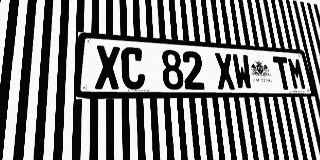2: (182, 51, 205, 89)
8: (161, 49, 184, 89)
C: (121, 47, 145, 89)
M: (287, 57, 307, 90)
T: (272, 56, 293, 90)
W: (231, 54, 253, 90)
X: (95, 45, 121, 89), (214, 53, 236, 90)
